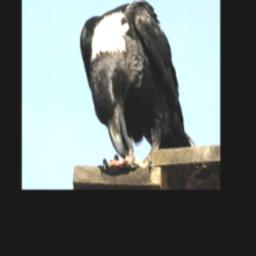Crow: (78, 0, 196, 173)
